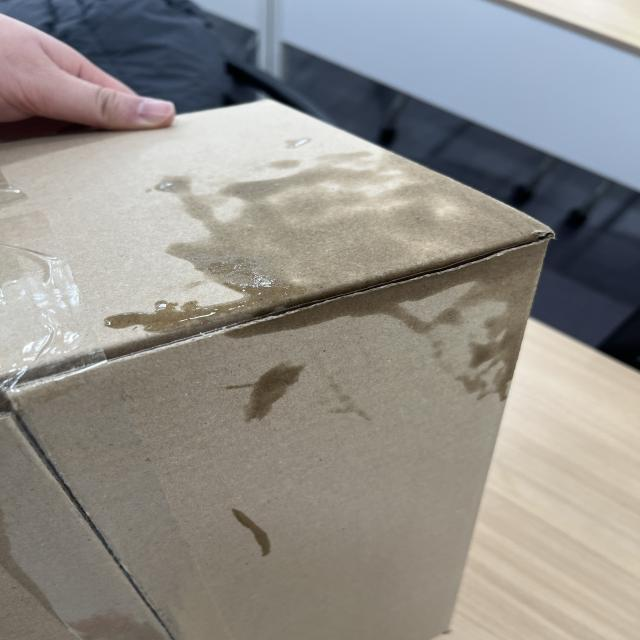wet: (147, 169, 545, 442)
